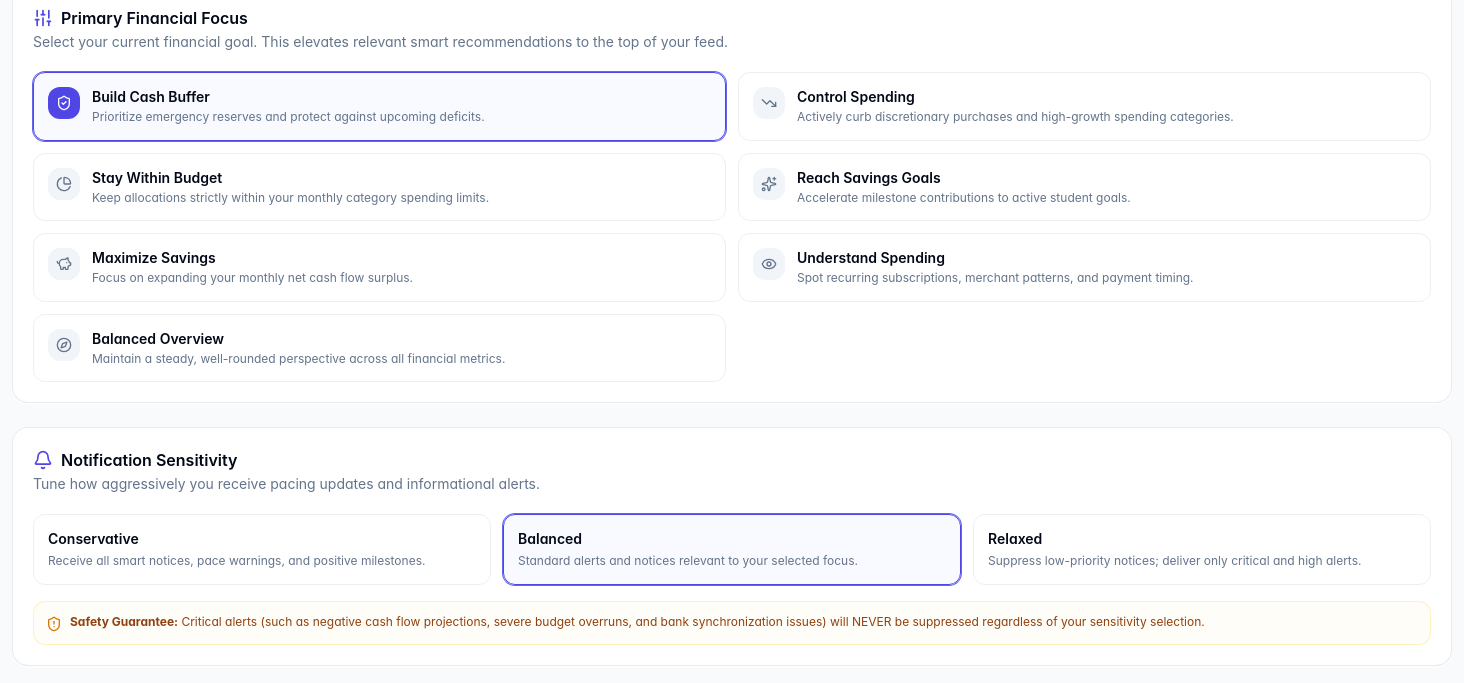
Test: Personalization & Adaptive Intelligence (Phase 16) › updates priority and sensitivity when user selects new options and saves
Click the button "Control Spending" at (1084, 106), box [738,72,1431,140]
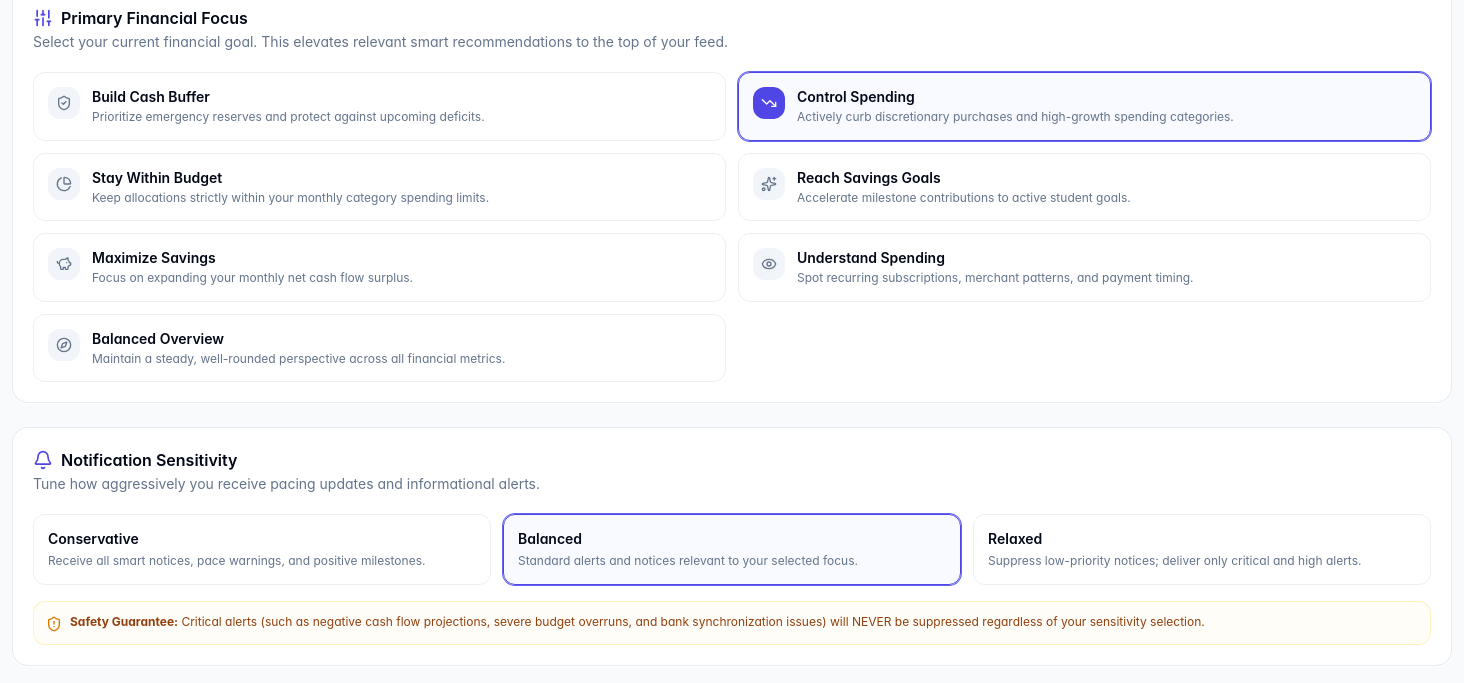
Click the button "Conservative" at (93, 538), box [33,514,491,584]
(page scrolled)
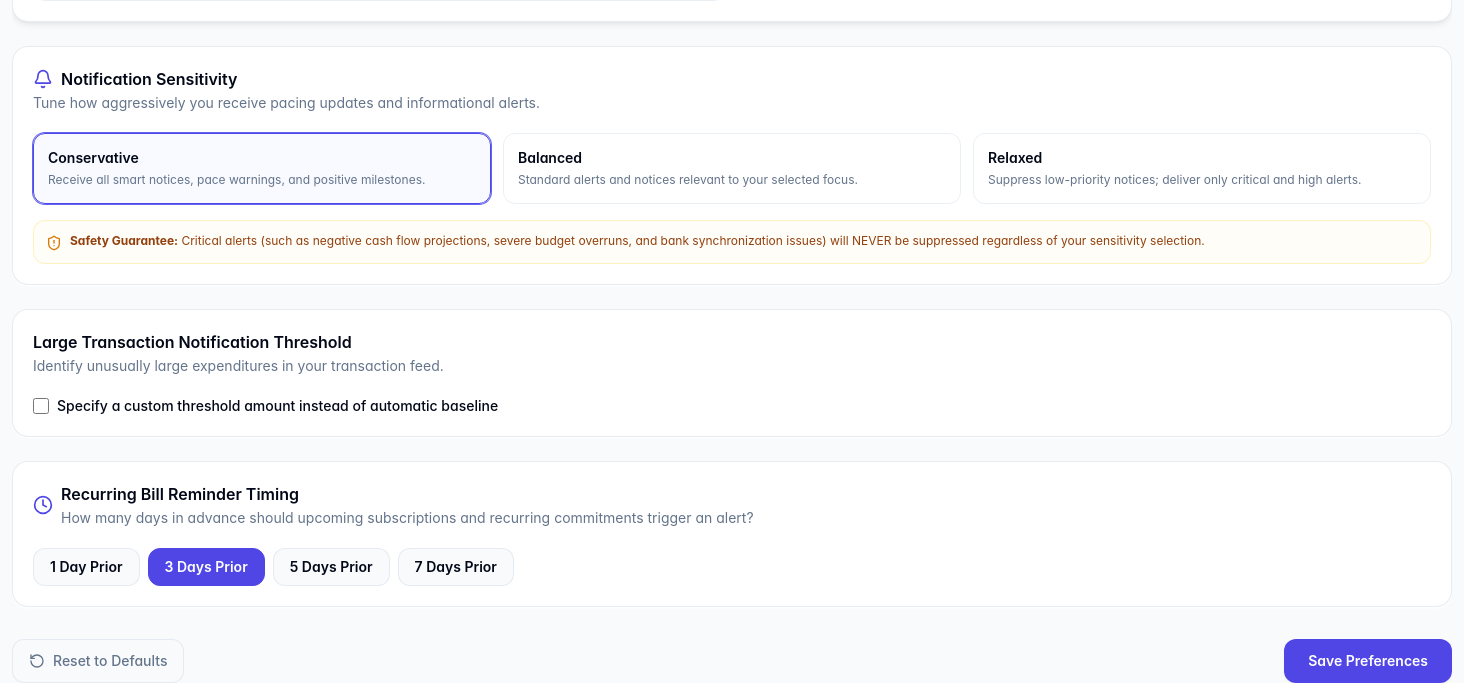
Click on "5 Days Prior" recurring timing
Click the button "5 Days Prior" at (331, 566), box [273,548,390,586]
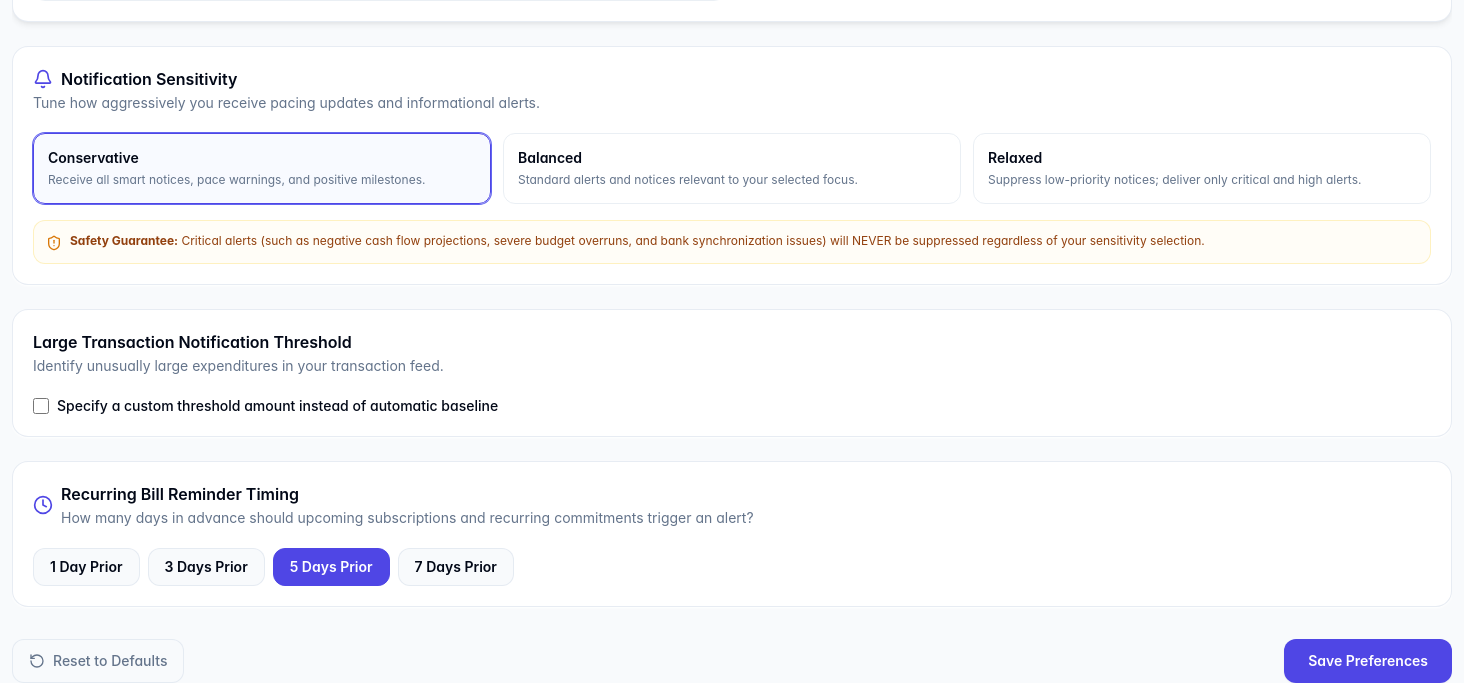
Save preferences
Click the button with test id "save-personalization-btn" at (1368, 660), box [1284,638,1452,682]
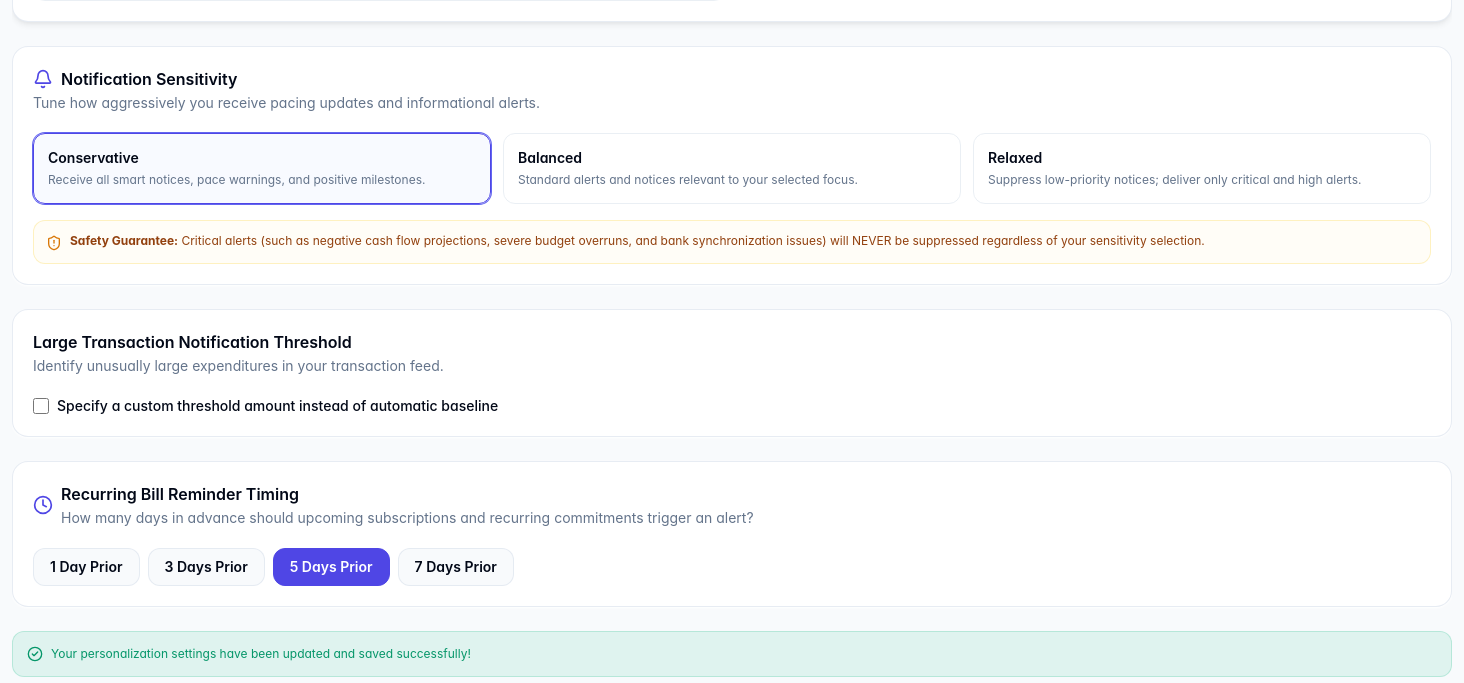
expect the element with test id "save-success-banner" is shown: met, box [12,630,1452,676]
